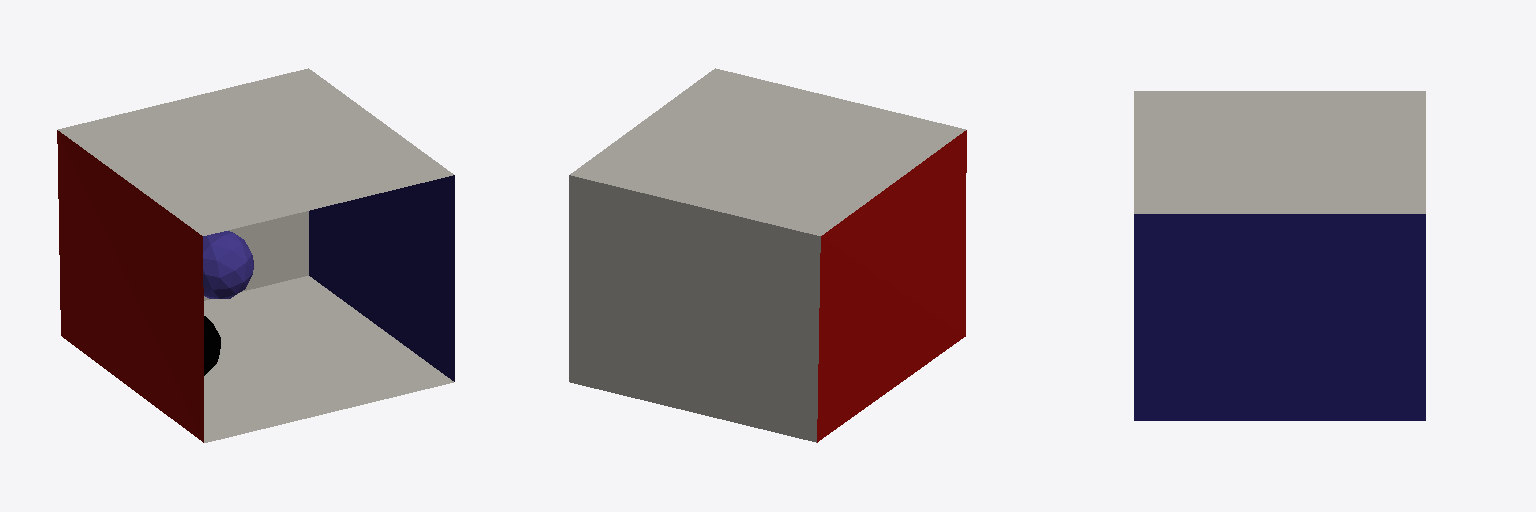
File: CornellBox-Sphere-277.obj
3 renders of one model, left to right at view 1: azimuth 30°, elevation 25°; view 2: azimuth 150°, elevation 25°; view 3: azimuth 270°, elevation 25°, orthographic.
Parts seen in each view (by area): view 1: ceiling, leftWall, floor, rightWall, backWall, leftSphere, rightSphere; view 2: backWall, ceiling, leftWall; view 3: rightWall, ceiling.
Part boxes in pixels (x1,y1,x2,y2): ceiling: (58, 68, 453, 235); leftWall: (57, 130, 203, 442); floor: (204, 276, 453, 442); rightWall: (309, 175, 454, 381); backWall: (204, 211, 308, 300); leftSphere: (203, 231, 253, 298); rightSphere: (204, 316, 220, 375); backWall: (569, 175, 820, 442); ceiling: (570, 68, 965, 235); leftWall: (817, 130, 966, 442); rightWall: (1134, 214, 1425, 420); ceiling: (1134, 91, 1425, 213).
Bounding box in the file's own units: 2.02 × 1.59 × 2.03.